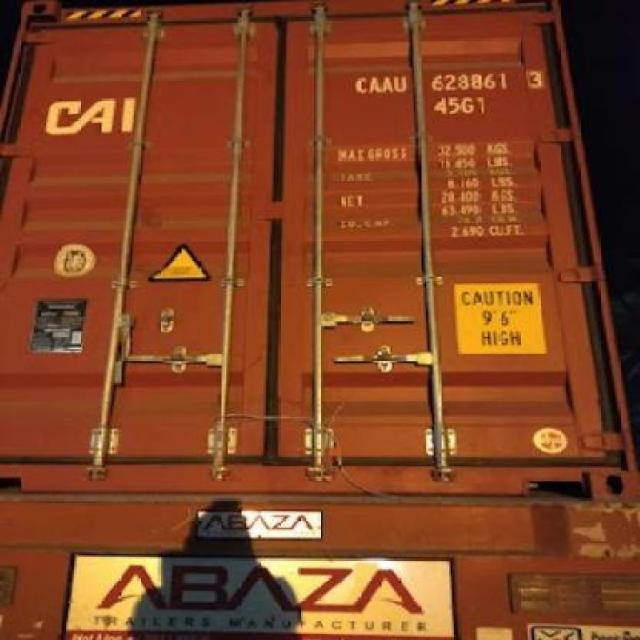ISO: (434, 95, 486, 116)
container_number: (356, 68, 549, 92)
